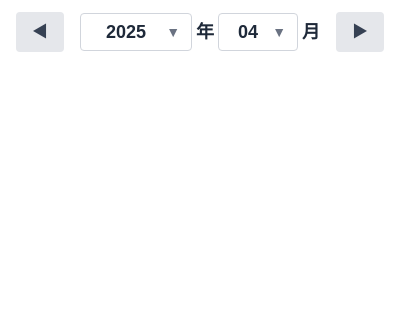
Test: MonthNavigator › 年入力欄にフォーカスすると現在年から過去10年分の候補が表示される
Focus the dropdown named "年": (136, 32) x1=80 y1=13 x2=192 y2=51
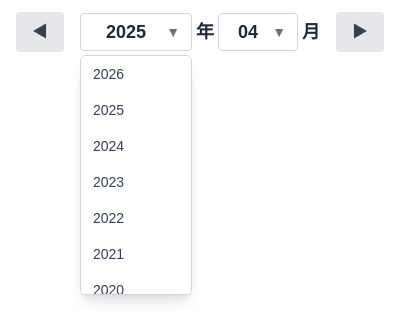
Now the list named "年候補" is shown, box x1=80 y1=55 x2=192 y2=295
Now the button "2026" is shown, box x1=81 y1=56 x2=191 y2=92
